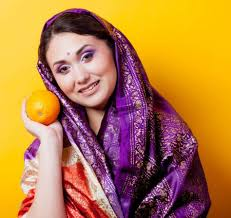indian_female: (36, 13, 122, 137)
